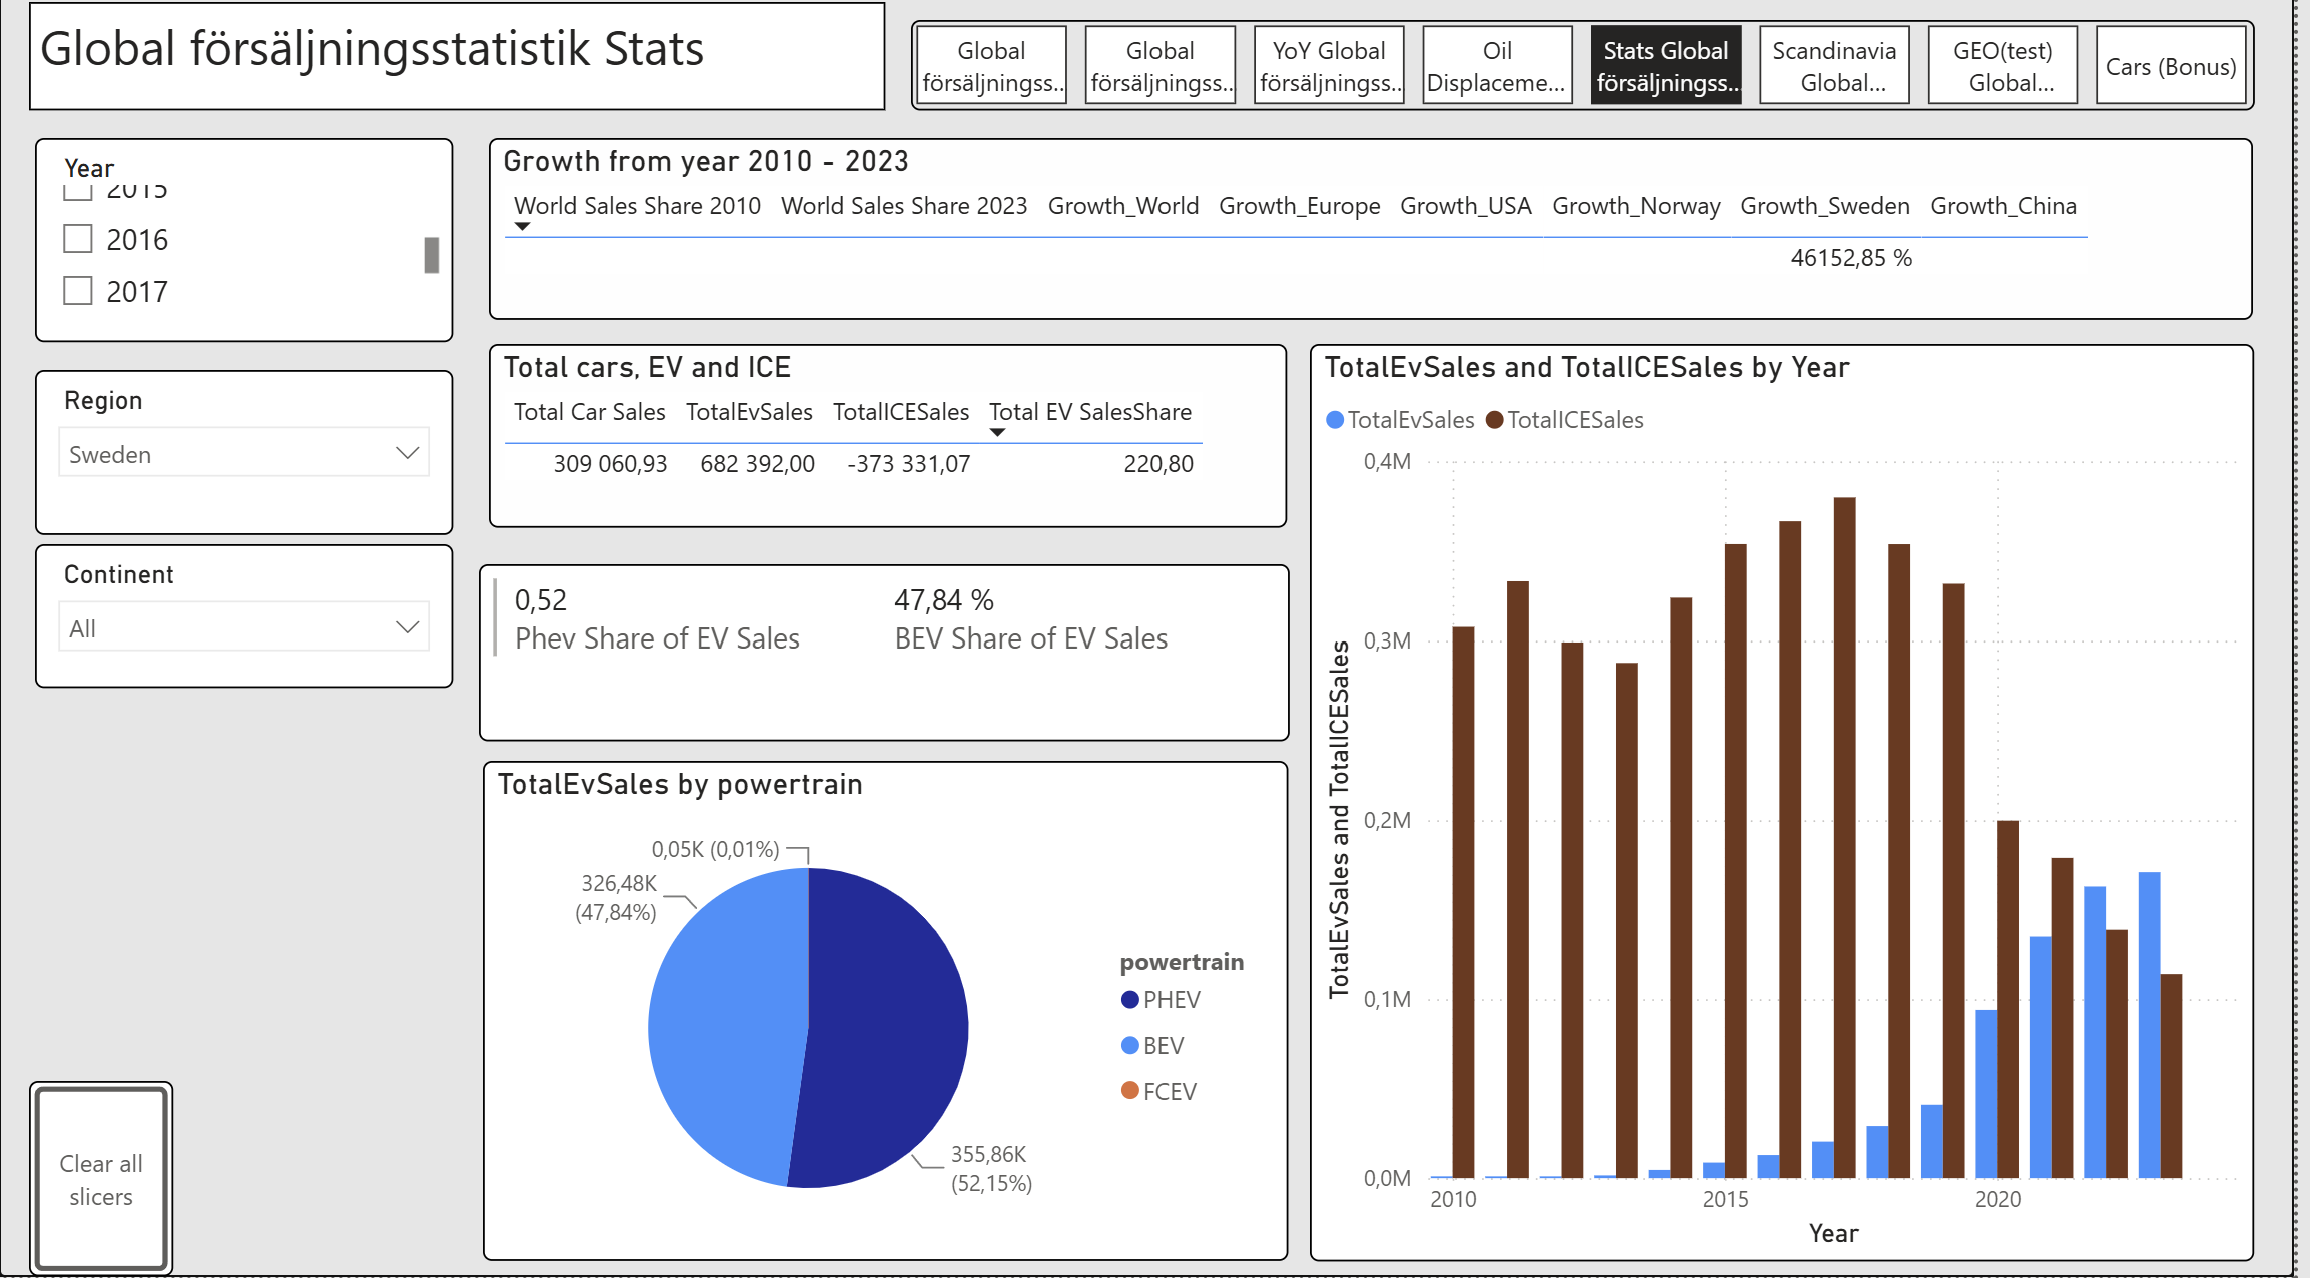

This screenshot's page, from the dashboard's own definition file:
{"tool":"powerbi","page":{"name":"Stats Global försäljningsstatistik","canvas":[1280,720],"ordinal":4},"visuals":[{"type":"textbox","box":[17.1,9.2,477.8,60.4],"z":0},{"type":"slicer","fields":{"Values":["Dim region.region"]},"box":[19.7,214,233.6,91.9],"z":1000},{"type":"slicer","fields":{"Values":["Dim_date.Year"]},"box":[19.7,85.3,233.6,114.2],"z":2000},{"type":"slicer","fields":{"Values":["Dim Region.Kontinent"]},"box":[19.7,311.1,233.6,80.1],"z":3000},{"type":"actionButton","box":[16.9,610.6,80.4,109.2],"z":4000},{"type":"pageNavigator","box":[509,18.6,749.5,50.5],"z":5000},{"type":"tableEx","title":"Growth from year 2010 - 2023","fields":{"Values":["+Measure.World Sales Share 2010","+Measure.World Sales Share 2023","+Measure.Growth_World","+Measure.Growth_Europe","+Measure.Growth_USA","+Measure.Growth_Norway","+Measure.Growth_Sweden","+Measure.Growth_China"]},"box":[274,85.4,984,101.3],"z":6000},{"type":"tableEx","title":"Total cars, EV and ICE","fields":{"Values":["+Measure.Total Car Sales","+Measure.TotalEvSales","+Measure.TotalICESales","+Measure.Total EV SalesShare"]},"box":[273.8,199.3,445.2,102.3],"z":7000},{"type":"pieChart","fields":{"Category":["Dim_Powertrain.powertrain"],"Y":["+Measure.TotalEvSales"]},"box":[269.8,431.9,449.2,279.1],"z":8000},{"type":"clusteredColumnChart","fields":{"Y":["+Measure.TotalEvSales","+Measure.TotalICESales"],"Category":["Dim_date.Year1.Variation.Date Hierarchy.Year"]},"box":[730.8,199.6,527.2,511.3],"z":9000},{"type":"multiRowCard","fields":{"Values":["+Measure.Phev Share of EV Sales","+Measure.BEV Share of EV Sales"]},"box":[268.5,322.9,451.9,98.3],"z":10000}]}

Visuals, with their boxes in screenshot pixels (x1, y1, x2, y2), scaled from the page's 1280x720 canvas onto the 2310x1278 screenshot:
textbox: <region>31, 16, 893, 124</region>
slicer - Dim region.region: <region>36, 380, 457, 543</region>
slicer - Dim_date.Year: <region>36, 151, 457, 354</region>
slicer - Dim Region.Kontinent: <region>36, 552, 457, 694</region>
actionButton: <region>30, 1084, 176, 1277</region>
pageNavigator: <region>919, 33, 2271, 123</region>
"Growth from year 2010 - 2023" tableEx: <region>494, 152, 2270, 331</region>
"Total cars, EV and ICE" tableEx: <region>494, 354, 1298, 535</region>
pieChart - Dim_Powertrain.powertrain x +Measure.TotalEvSales: <region>487, 767, 1298, 1262</region>
clusteredColumnChart - +Measure.TotalEvSales x +Measure.TotalICESales: <region>1319, 354, 2270, 1262</region>
multiRowCard - +Measure.Phev Share of EV Sales x +Measure.BEV Share of EV Sales: <region>485, 573, 1300, 748</region>
